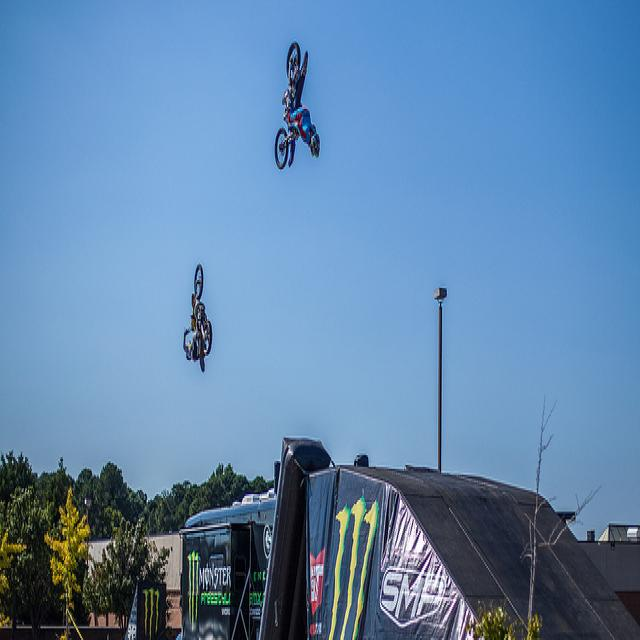motor: (274, 39, 311, 172), (185, 264, 213, 372)
